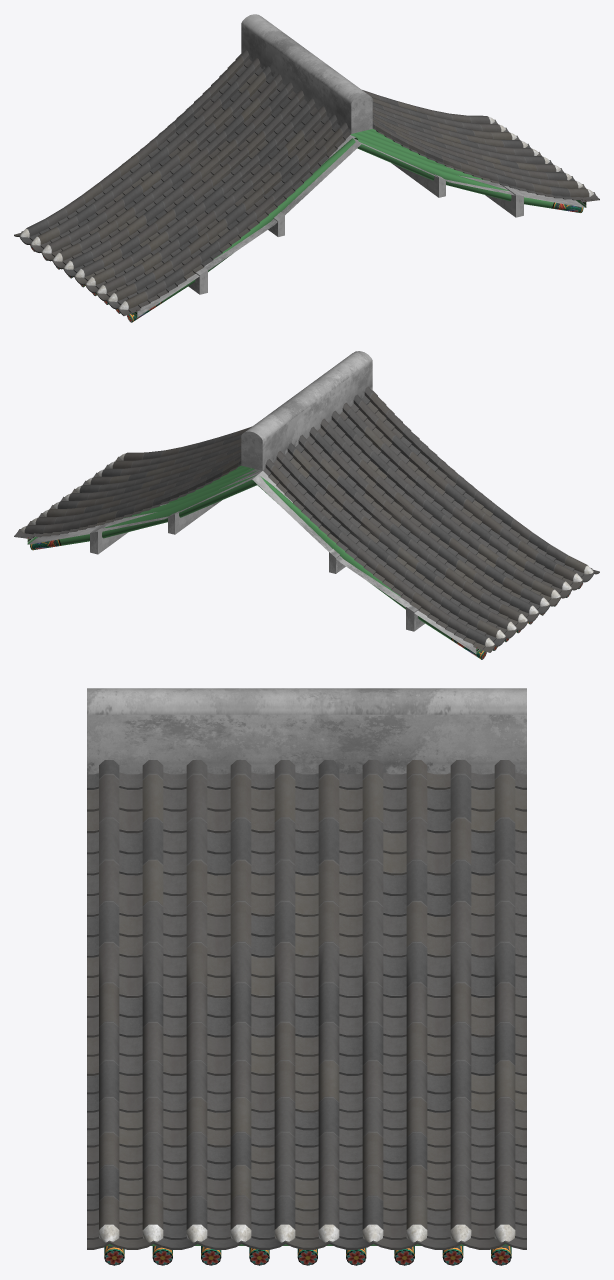
File: SM_Gate_Roof02a.fbx
The picture shows the model from 3 angles, top to bottom: view 1: azimuth 30°, elevation 25°; view 2: azimuth 150°, elevation 25°; view 3: azimuth 270°, elevation 25°; orthographic projection. The views are drawn at different scales.
Parts seen in each view (by area): view 1: SM_Gate_Roof02a; view 2: SM_Gate_Roof02a; view 3: SM_Gate_Roof02a.
Part boxes in pixels (left/top/right/bottom): SM_Gate_Roof02a: left=14, top=14, right=599, bottom=322; SM_Gate_Roof02a: left=14, top=351, right=599, bottom=659; SM_Gate_Roof02a: left=87, top=688, right=526, bottom=1265.
Bounding box in the file's own units: 750 × 300 × 267.
Materials: 2 (2 with a texture image).
